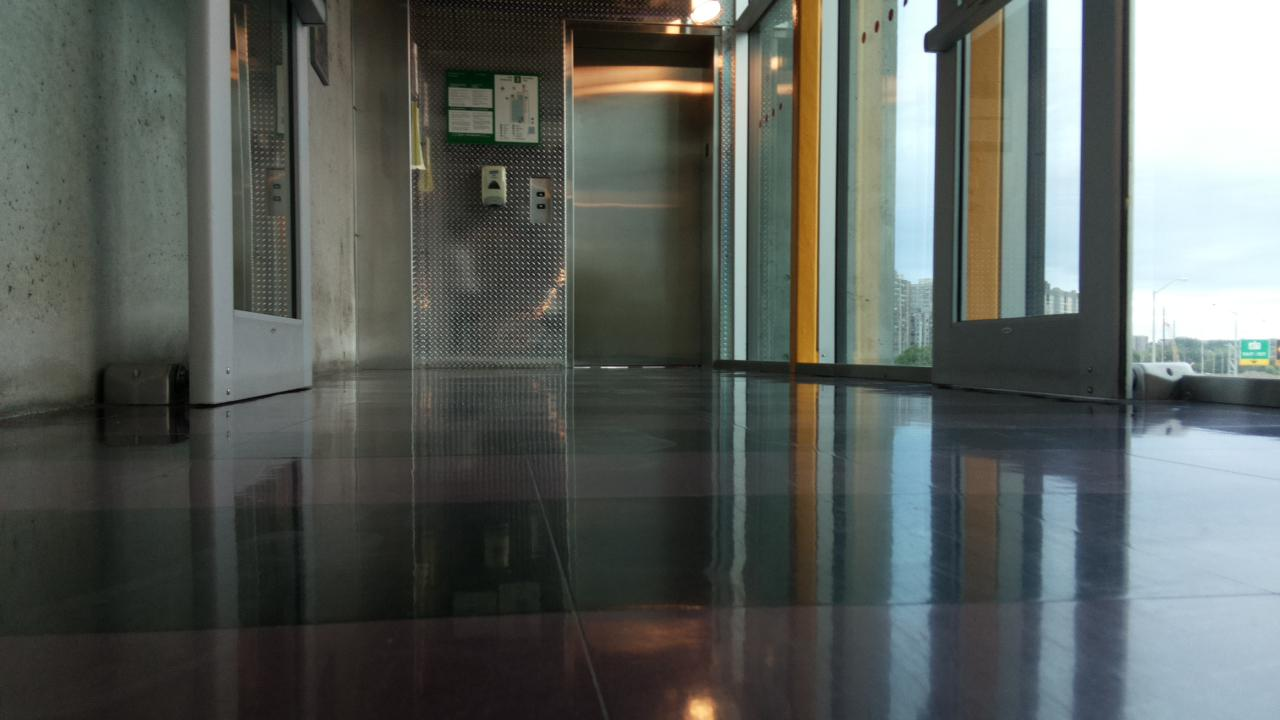door: (574, 47, 711, 367)
sign: (448, 72, 537, 142)
